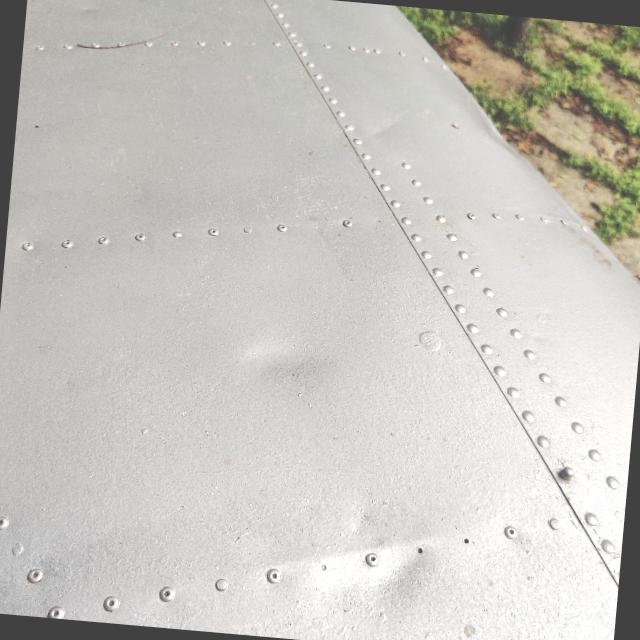dent: (304, 484, 454, 630), (202, 290, 350, 420)
